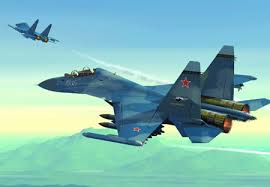maybay_muctieu: (39, 56, 269, 146), (8, 19, 64, 47)
ten_lua: (99, 114, 165, 136)
